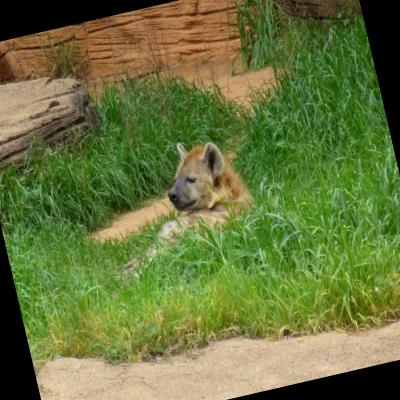hyenas: (101, 125, 292, 275)
